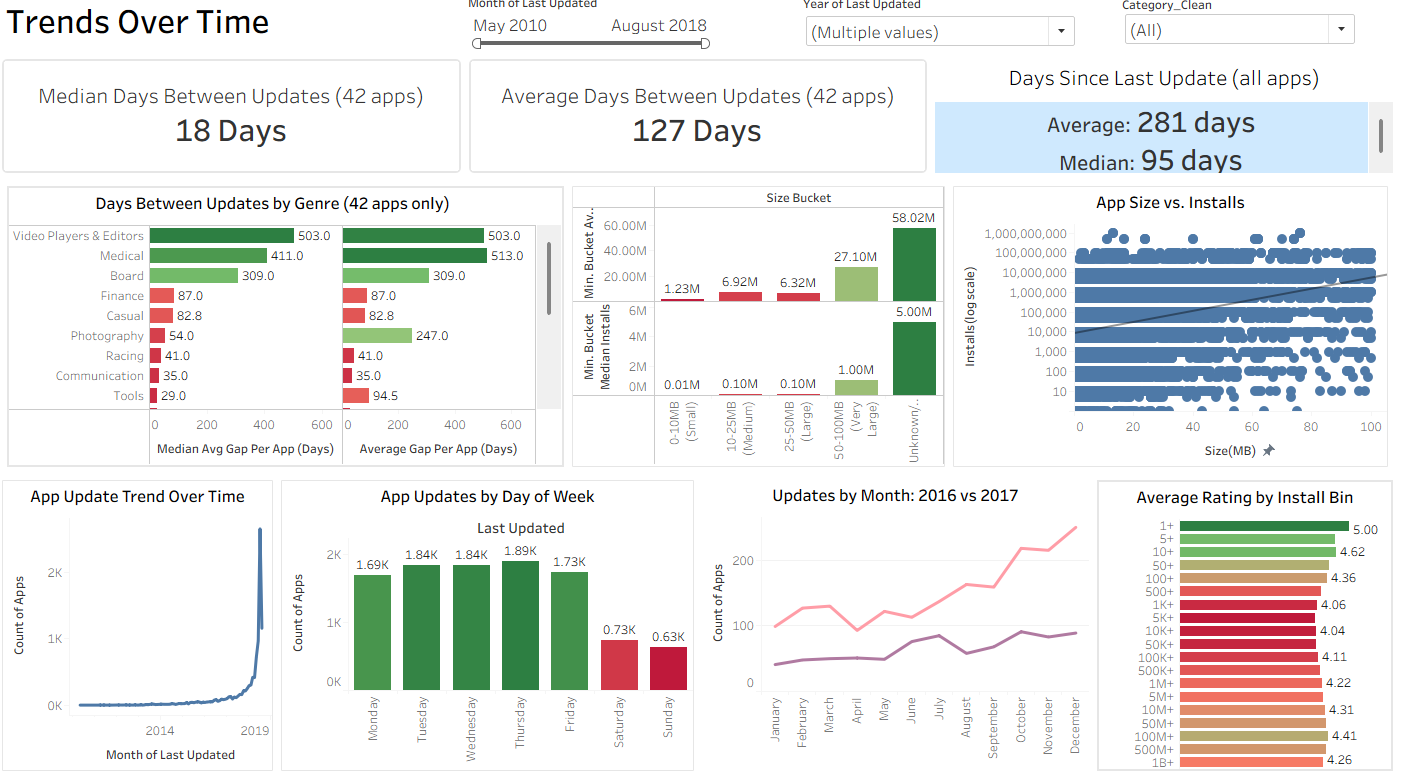

What the dashboard file says about the page in this screenshot:
{"tool":"tableau","page":{"name":"Dashboard 5","canvas":[1400,800],"ordinal":4},"visuals":[{"type":"text","box":[0,0,1399,70]},{"type":"filter","title":"Trend over time (line chart)A2","param":"[federated.019ev5d0986adr167u6dm0snf7zb].[tmn:Last Updated:qk]","box":[470,9,246,59]},{"type":"filter","title":"Updates by Month of Year A2","param":"[federated.019ev5d0986adr167u6dm0snf7zb].[yr:Last Updated:ok]","box":[805,10,275,60]},{"type":"filter","title":"Median Installs bySize BucketM7","param":"[federated.019ev5d0986adr167u6dm0snf7zb].[none:Calculation_0197685440053249:nk]","box":[1124,11,236,49]},{"type":"worksheet","title":"Median(Days bwt updateM6 ","mark":"Automatic","box":[0,70,467,122]},{"type":"worksheet","title":"Average(Days bwt updateM6","mark":"Automatic","box":[467,70,466,122]},{"type":"worksheet","title":"Days Since Last Update","mark":"Automatic","box":[933,70,466,122]},{"type":"worksheet","title":"Median(Days between updateM6","mark":"Automatic","rows":["Calculation_0197685442338819"],"cols":["Calculation_1377736631640074","Calculation_1377736631640074"],"box":[5,197,565,289]},{"type":"worksheet","title":"Median Installs bySize BucketM7","mark":"Bar","rows":["Calculation_1377736671617037","Calculation_1377737122914371"],"cols":["Calculation_1377736655589388"],"box":[570,197,381,289]},{"type":"worksheet","title":"ScatterPlotAppsize vs InstallsM7","mark":"Circle","rows":["Installs"],"cols":["Calculation_0197685459951629"],"box":[951,197,443,289]},{"type":"worksheet","title":"Trend over time (line chart)A2","mark":"Line","rows":["Calculation_0197685439774720"],"cols":["Last Updated"],"box":[0,491,279,299]},{"type":"worksheet","title":"Day-of-week patternA2","mark":"Bar","rows":["Calculation_0197685439774720"],"cols":["Last Updated"],"box":[279,491,421,299]},{"type":"worksheet","title":"Updates by Month of Year A2","mark":"Line","rows":["Calculation_0197685439774720"],"cols":["Last Updated"],"box":[700,491,395,299]},{"type":"worksheet","title":"Average Rating by Install BinA3","mark":"Bar","rows":["Calculation_1377736948367400"],"cols":["Rating"],"box":[1095,491,304,299]}]}

Visuals, with their boxes on the page's 1400x800 design canvas (x1, y1, x2, y2). These are canvas units, not pixel positions in the 1405x775 screenshot, which may show the page scaled, cropped or inside an application window:
text: <bbox>0, 0, 1399, 70</bbox>
"Trend over time (line chart)A2" filter: <bbox>470, 9, 716, 68</bbox>
"Updates by Month of Year A2" filter: <bbox>805, 10, 1080, 70</bbox>
"Median Installs bySize BucketM7" filter: <bbox>1124, 11, 1360, 60</bbox>
"Median(Days bwt updateM6 " worksheet: <bbox>0, 70, 467, 192</bbox>
"Average(Days bwt updateM6" worksheet: <bbox>467, 70, 933, 192</bbox>
"Days Since Last Update" worksheet: <bbox>933, 70, 1399, 192</bbox>
"Median(Days between updateM6" worksheet: <bbox>5, 197, 570, 486</bbox>
"Median Installs bySize BucketM7" worksheet (Bar marks): <bbox>570, 197, 951, 486</bbox>
"ScatterPlotAppsize vs InstallsM7" worksheet (Circle marks): <bbox>951, 197, 1394, 486</bbox>
"Trend over time (line chart)A2" worksheet (Line marks): <bbox>0, 491, 279, 790</bbox>
"Day-of-week patternA2" worksheet (Bar marks): <bbox>279, 491, 700, 790</bbox>
"Updates by Month of Year A2" worksheet (Line marks): <bbox>700, 491, 1095, 790</bbox>
"Average Rating by Install BinA3" worksheet (Bar marks): <bbox>1095, 491, 1399, 790</bbox>
